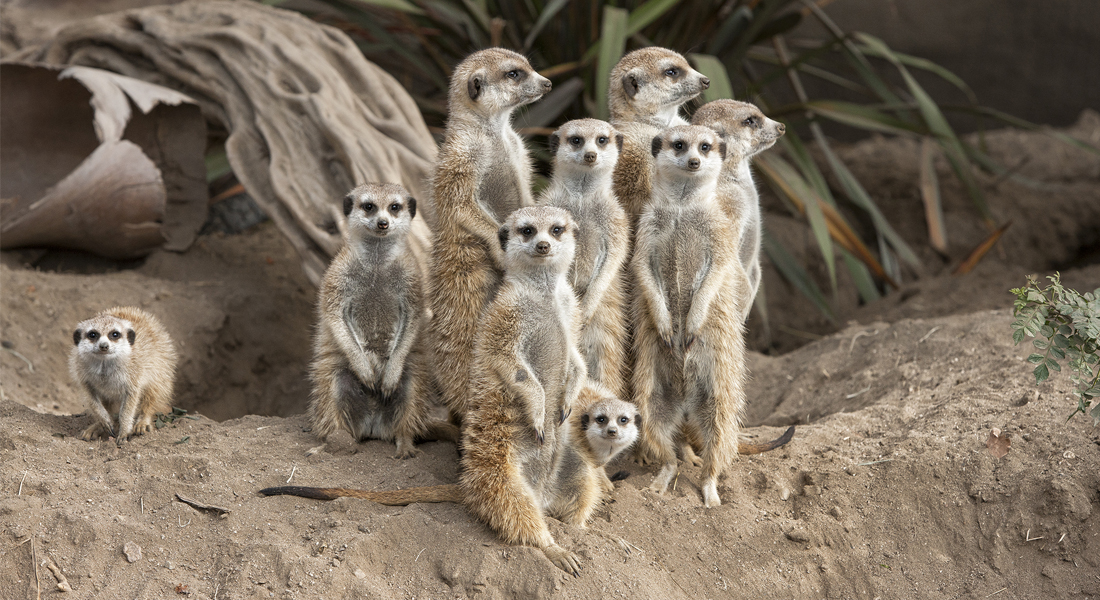meerkat: (630, 106, 761, 496), (291, 162, 452, 445), (66, 294, 191, 462)
